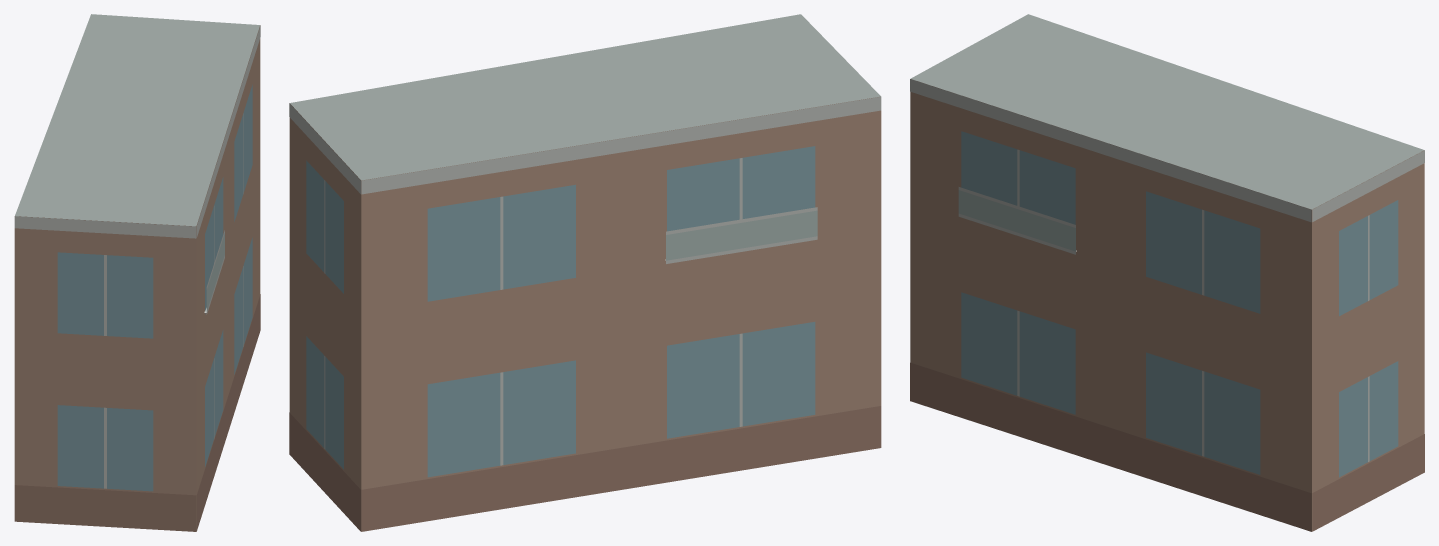
Rendered from survey-upis-32592511.glb.
3 views of the same model, side by side, from view 1: azimuth 30°, elevation 25°; view 2: azimuth 150°, elevation 25°; view 3: azimuth 270°, elevation 25° (orthographic). The views are drawn at different scales.
Visible parts, largest first — view 1: survey-upis-32592511.tmp; view 2: survey-upis-32592511.tmp; view 3: survey-upis-32592511.tmp.
Part boxes in pixels (x1,y1,x2,y2): survey-upis-32592511.tmp: (14, 14, 260, 531); survey-upis-32592511.tmp: (289, 14, 881, 531); survey-upis-32592511.tmp: (910, 14, 1424, 531).
Bounding box in the file's own units: 7.95 × 6.1 × 8.84.
